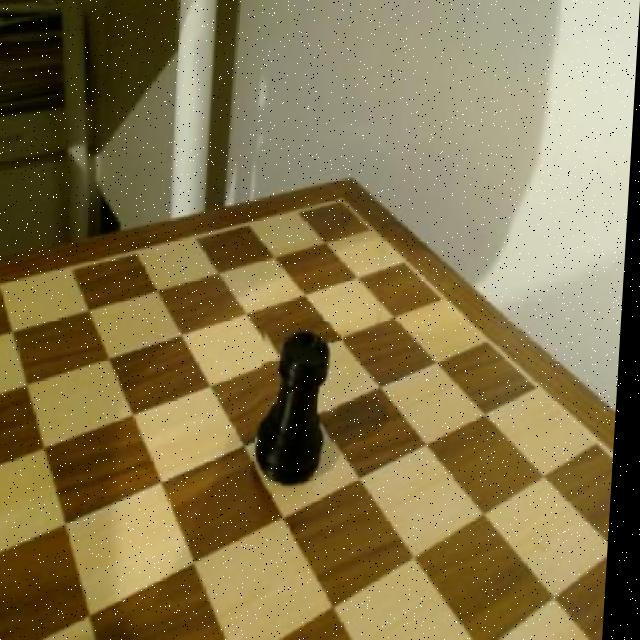black-queen: (257, 320, 348, 493)
